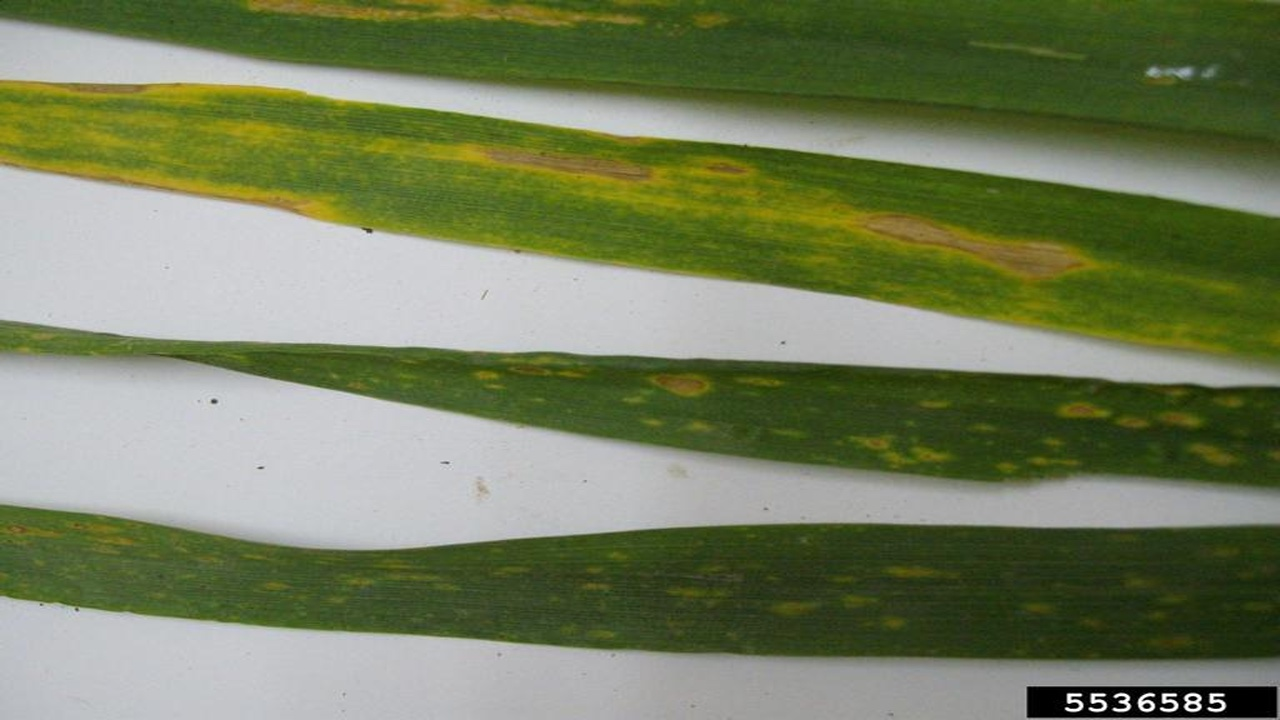tan_spot: (2, 79, 1268, 357), (2, 319, 1280, 488), (2, 501, 1280, 662)
